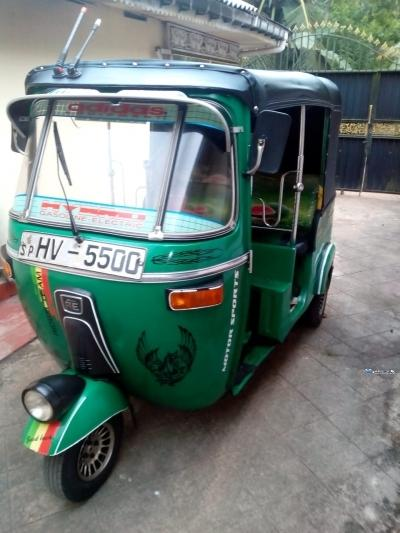threewheel: (1, 59, 335, 506)
